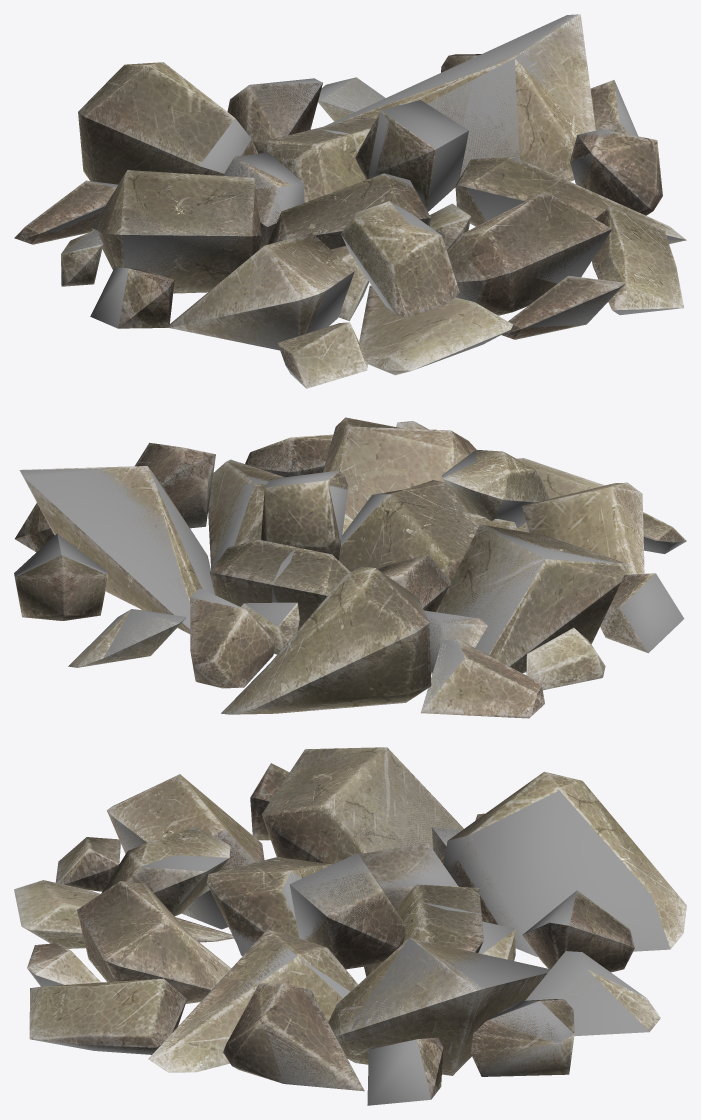
The model's file is z_debris_big_02.FBX.
3 views of the same model, one above another, from view 1: azimuth 30°, elevation 25°; view 2: azimuth 150°, elevation 25°; view 3: azimuth 270°, elevation 25° (orthographic). The views are drawn at different scales.
Parts seen in each view (by area): view 1: debris_big_02_LOD0, debris_big_02_CLOD0; view 2: debris_big_02_LOD0, debris_big_02_CLOD0; view 3: debris_big_02_LOD0, debris_big_02_CLOD0.
Boxes of the visible parts, bbox=[...] form: debris_big_02_LOD0: bbox=[14, 14, 686, 388]; debris_big_02_CLOD0: bbox=[43, 14, 686, 387]; debris_big_02_LOD0: bbox=[14, 417, 686, 718]; debris_big_02_CLOD0: bbox=[14, 438, 685, 712]; debris_big_02_LOD0: bbox=[14, 747, 686, 1099]; debris_big_02_CLOD0: bbox=[27, 748, 670, 1105].
Size of what is drawn, in the model's own units: 191 by 39.99 by 182.
